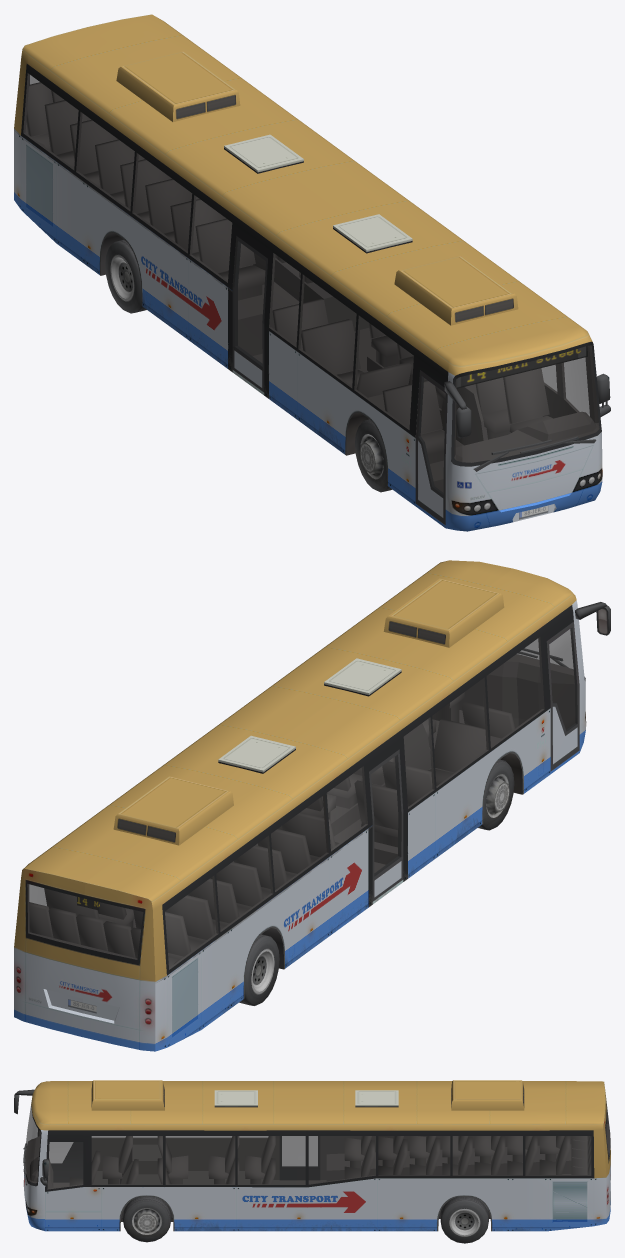
File: city_bus.fbx
3 renders of one model, top to bottom at view 1: azimuth 30°, elevation 25°; view 2: azimuth 150°, elevation 25°; view 3: azimuth 270°, elevation 25°, orthographic. The views are drawn at different scales.
Parts seen in each view (by area): view 1: Car_Body, RB_Wheel, RF_Wheel; view 2: Car_Body, RB_Wheel, RF_Wheel; view 3: Car_Body, LB_Wheel, LF_Wheel.
Part boxes in pixels (x1,y1,x2,y2): Car_Body: (14,14,610,531); RB_Wheel: (105,239,146,313); RF_Wheel: (355,419,392,492); Car_Body: (14,560,610,1051); RB_Wheel: (239,934,279,1005); RF_Wheel: (478,759,514,830); Car_Body: (14,1080,610,1231); LB_Wheel: (440,1196,488,1243); LF_Wheel: (123,1196,171,1242).
Bounding box in the file's own units: 267 × 296 × 1223.
2 materials, 2 textured.
